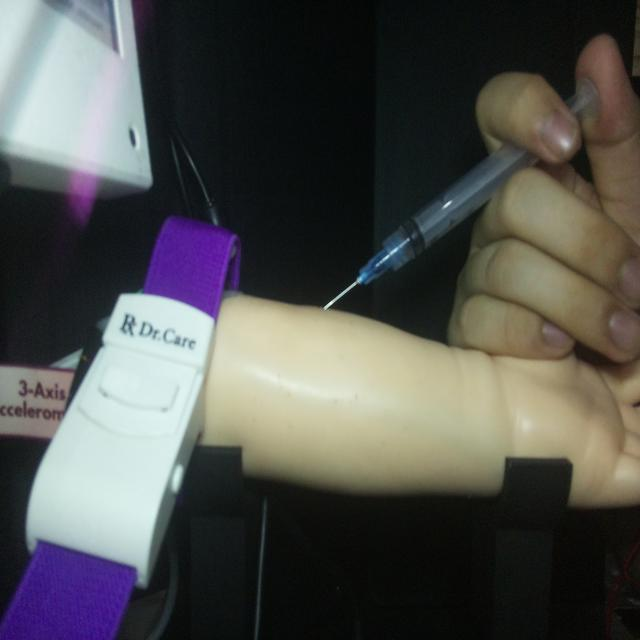29 degrees: (321, 75, 601, 312)
